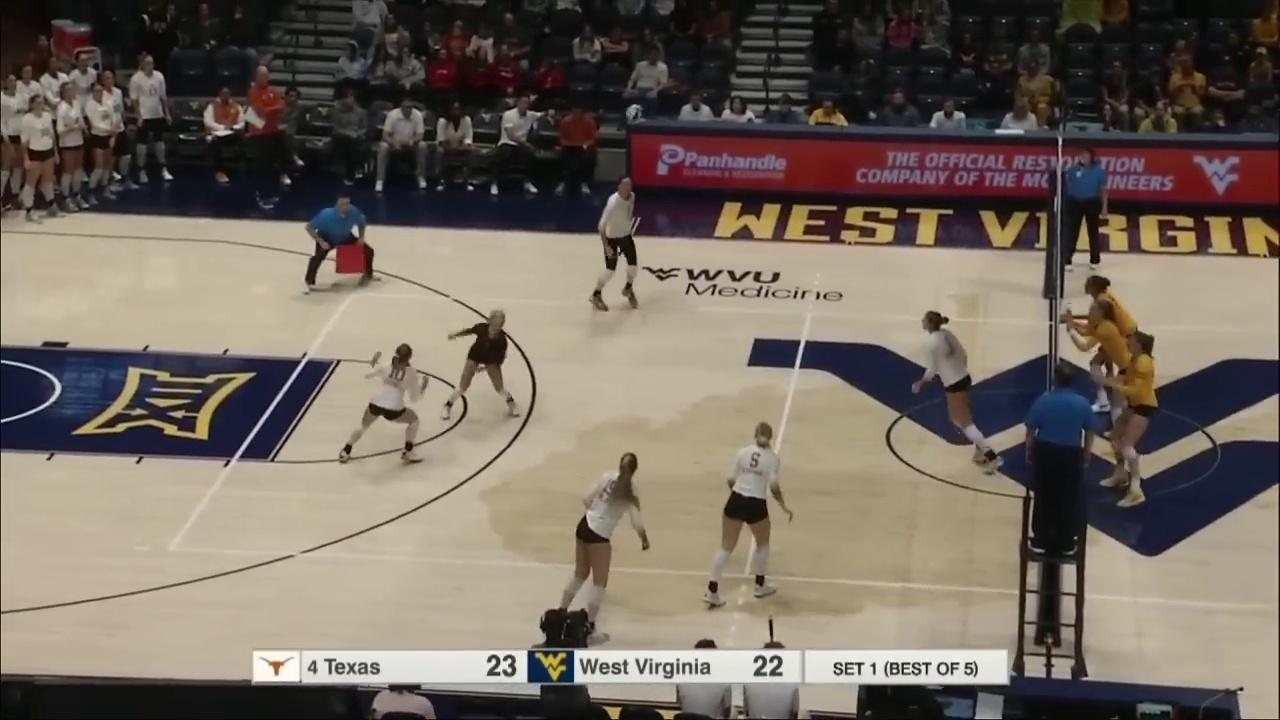player: (542, 454, 651, 640), (709, 421, 792, 603), (918, 310, 1002, 472), (341, 345, 432, 465), (1070, 302, 1140, 458), (1096, 330, 1157, 507), (1066, 275, 1138, 420), (448, 315, 511, 416), (597, 177, 640, 312)
refree: (1028, 368, 1088, 557), (307, 195, 372, 292), (1065, 149, 1102, 268)
